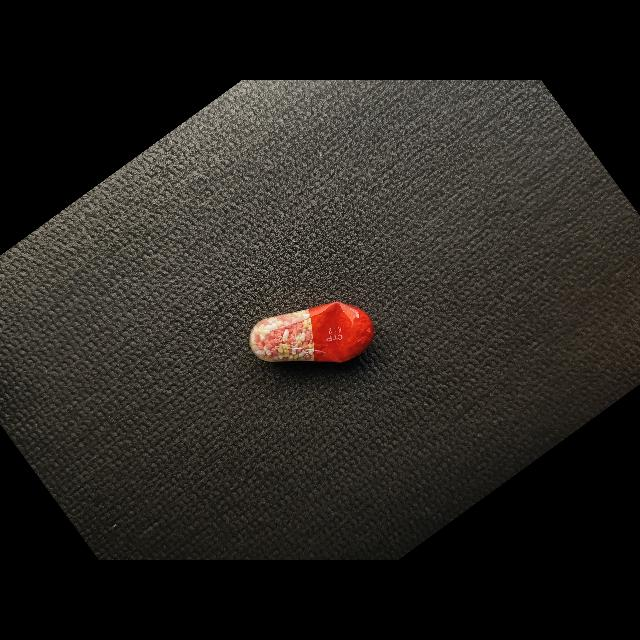Defective Capsule: (249, 302, 374, 363)
